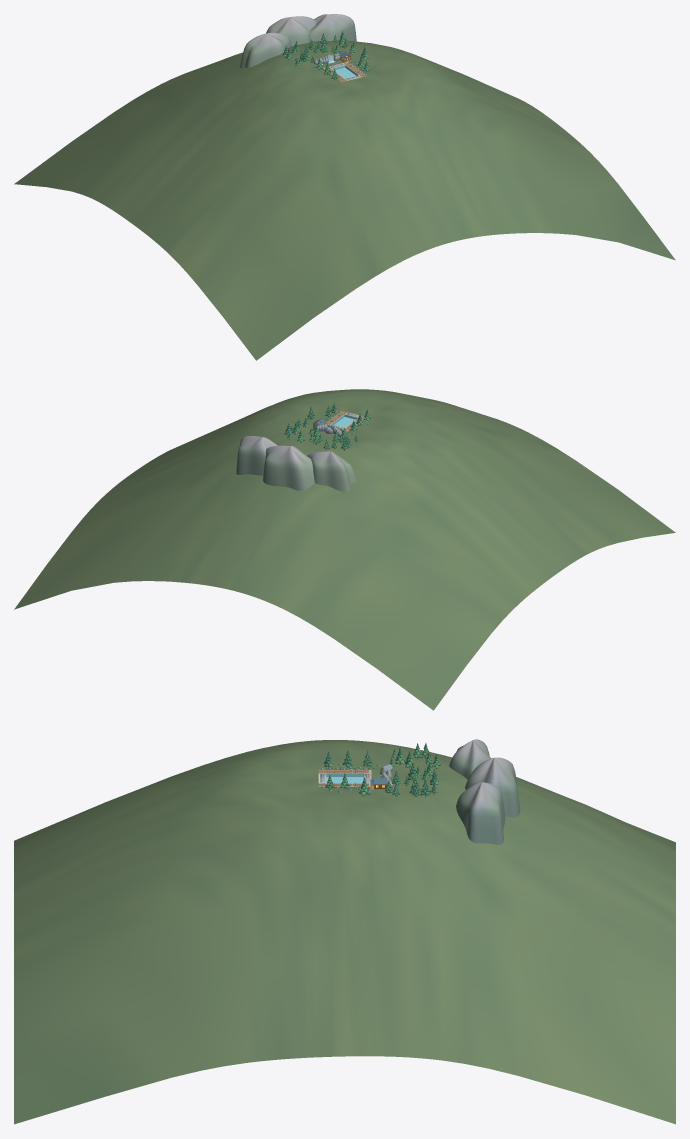
File: forest.glb
3 renders of one model, top to bottom at view 1: azimuth 30°, elevation 25°; view 2: azimuth 150°, elevation 25°; view 3: azimuth 270°, elevation 25°, orthographic. The views are drawn at different scales.
Visible parts, largest first — view 1: Architecture, Wind; view 2: Architecture, Wind; view 3: Architecture, Wind.
Part boxes in pixels (<box>): Architecture: <box>14,40,675,360</box>; Wind: <box>240,14,369,81</box>; Architecture: <box>14,389,675,710</box>; Wind: <box>236,403,370,491</box>; Architecture: <box>14,740,675,1124</box>; Wind: <box>321,739,520,844</box>.
Bounding box in the file's own units: 440 × 166 × 440.
